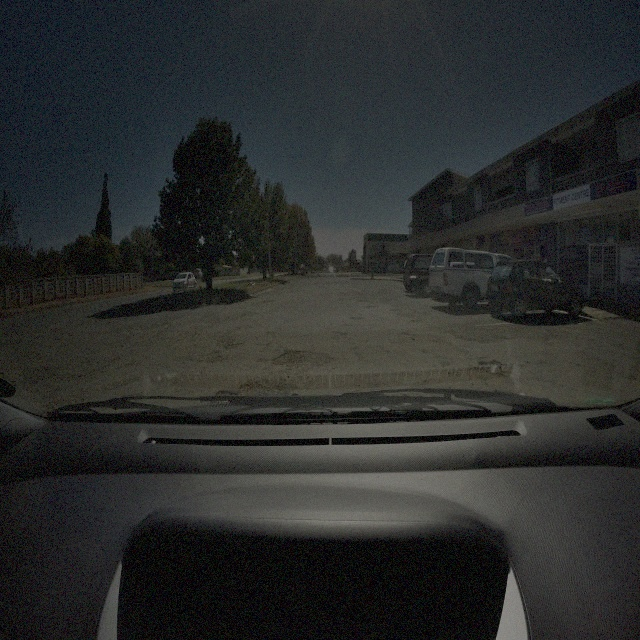pothole: (238, 372, 300, 398), (272, 346, 336, 368), (476, 357, 506, 379), (225, 339, 244, 353), (350, 315, 366, 322)
